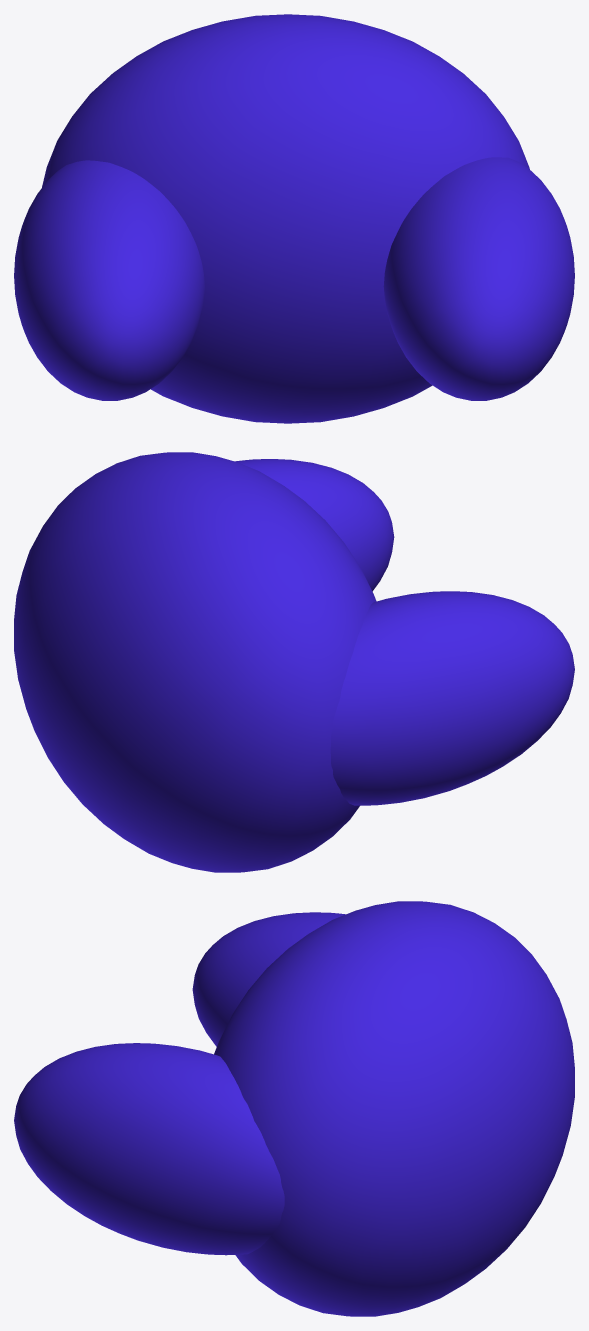
The model's file is Pillow.fbx.
The picture shows the model from 3 angles, top to bottom: view 1: azimuth 30°, elevation 25°; view 2: azimuth 150°, elevation 25°; view 3: azimuth 270°, elevation 25°; orthographic projection. The views are drawn at different scales.
Visible parts, largest first — view 1: Pillow; view 2: Pillow; view 3: Pillow.
Part boxes in pixels (x1,y1,x2,y2): Pillow: (14, 14, 574, 423); Pillow: (14, 452, 574, 872); Pillow: (14, 901, 574, 1316).
Bounding box in the file's own units: 3019 × 2200 × 3017.
